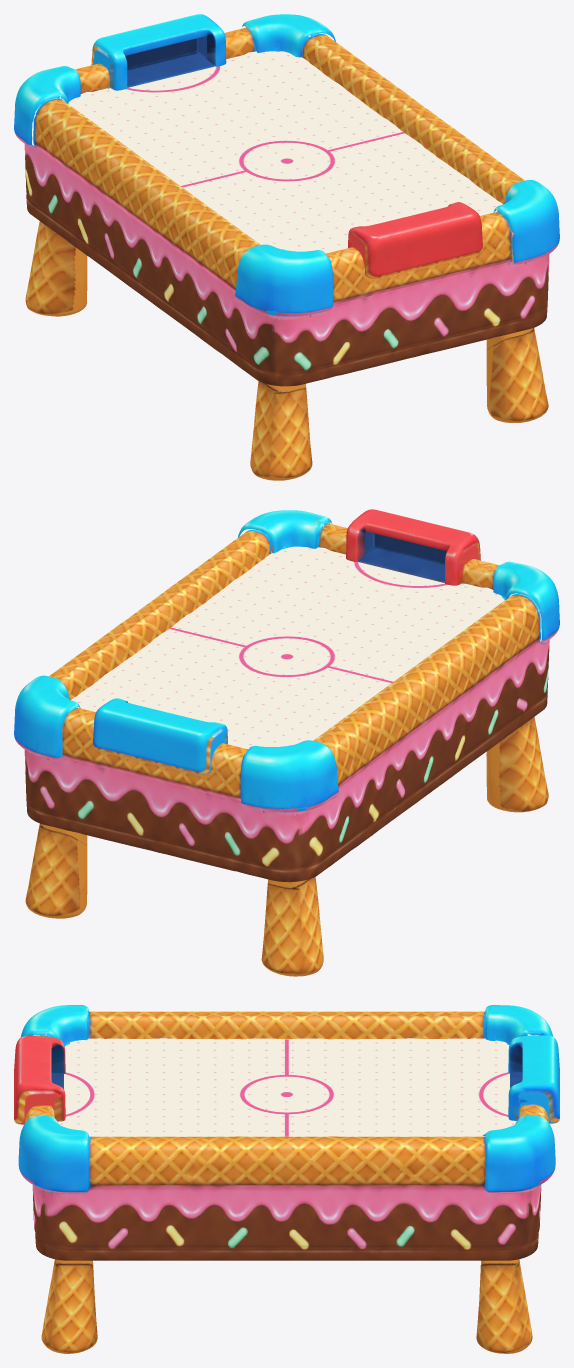
File: table-icecream.glb
The picture shows the model from 3 angles, top to bottom: view 1: azimuth 30°, elevation 25°; view 2: azimuth 150°, elevation 25°; view 3: azimuth 270°, elevation 25°; orthographic projection. The views are drawn at different scales.
Parts seen in each view (by area): view 1: table; view 2: table; view 3: table.
Part boxes in pixels (x1,y1,x2,y2): table: (14,14,559,480); table: (14,509,559,976); table: (14,1005,559,1353).
Size of the model in its own units: 7.88 by 5.68 by 12.31.
Materials: 2 (2 with a texture image).
